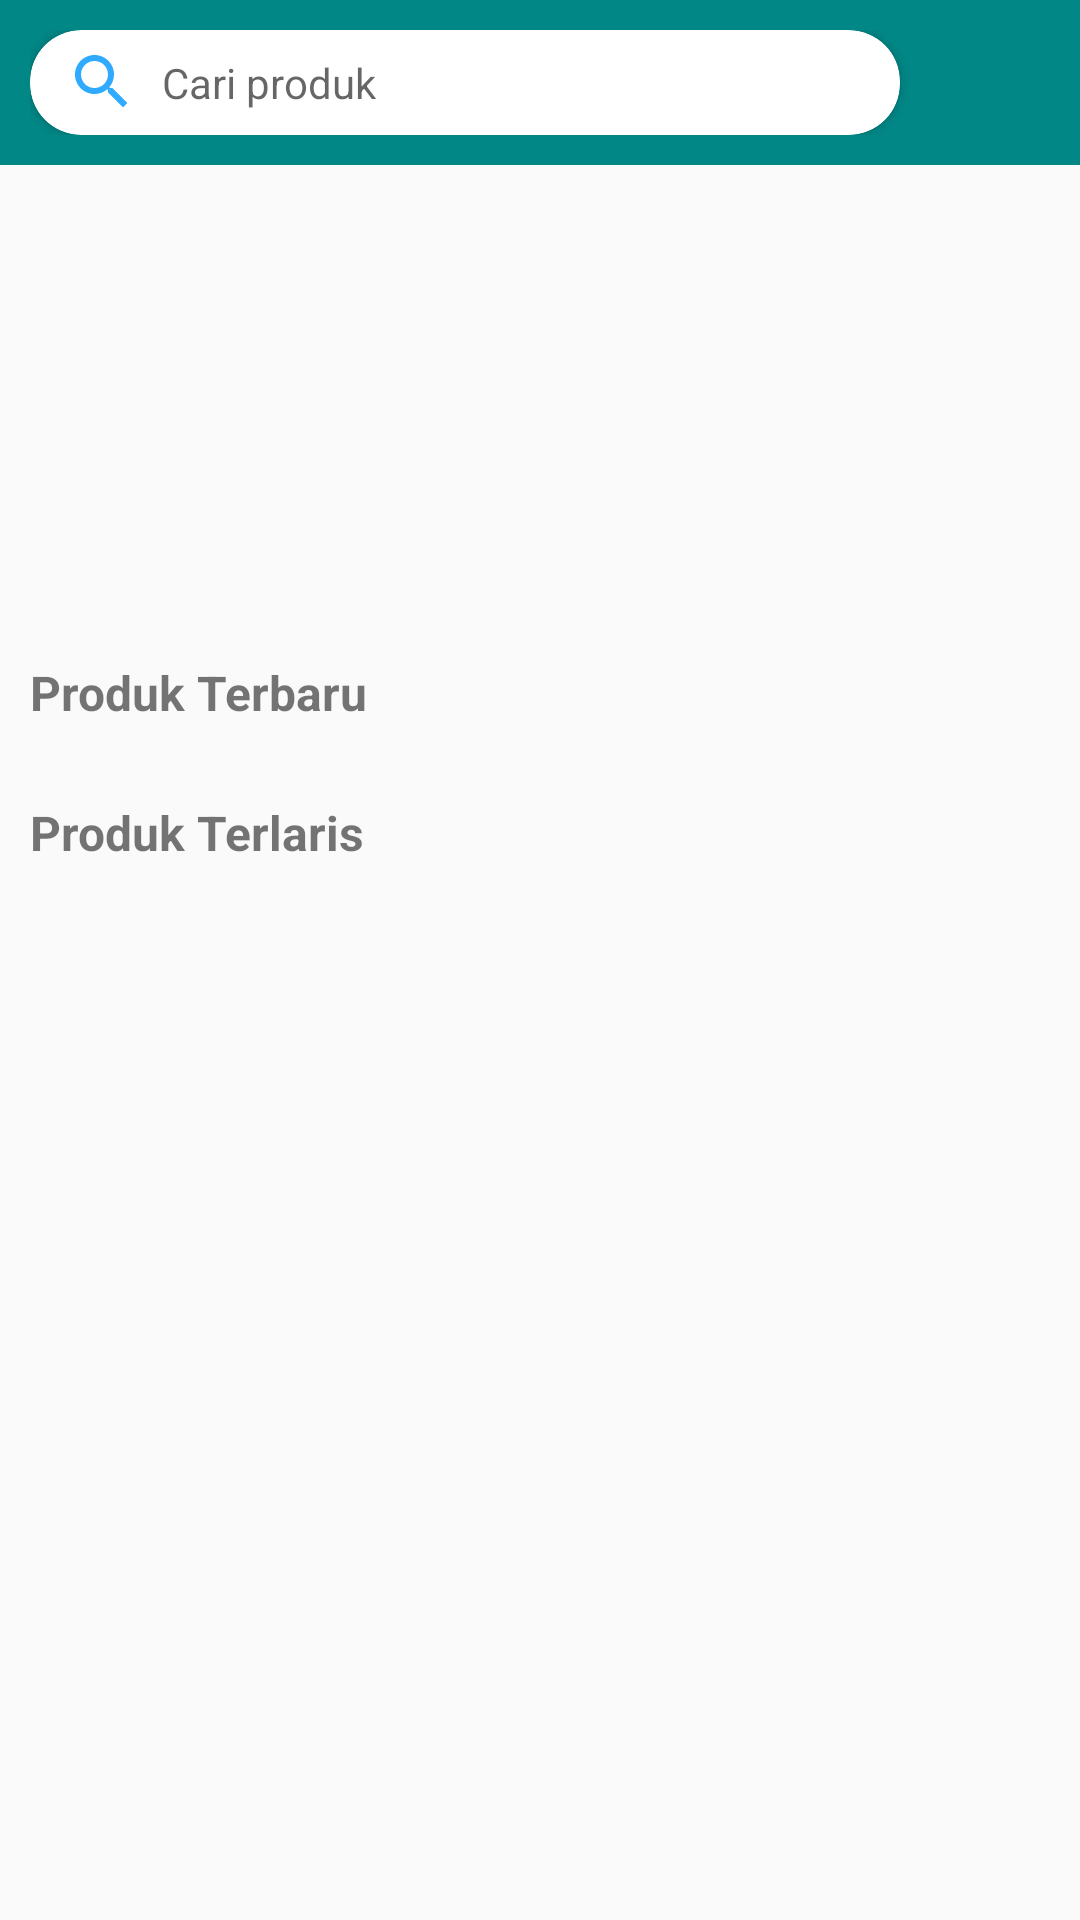

Icon click points for this 1080px×1920px phone screenshot, format (x,y):
search: (101,81)
